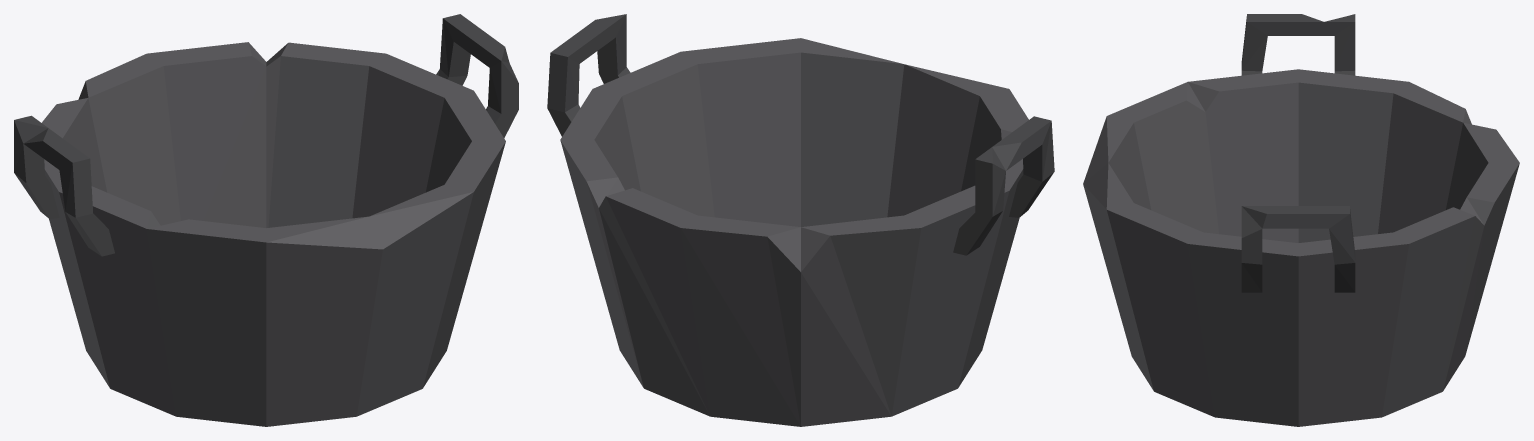
File: SM_Prop_Scrub_Bucket_02.glb
3 views of the same model, side by side, from view 1: azimuth 30°, elevation 25°; view 2: azimuth 150°, elevation 25°; view 3: azimuth 270°, elevation 25° (orthographic). The views are drawn at different scales.
Visible parts, largest first — view 1: SM_Prop_Scrub_Bucket_02_part00; view 2: SM_Prop_Scrub_Bucket_02_part00; view 3: SM_Prop_Scrub_Bucket_02_part00.
Boxes of the visible parts, x1,y1,x2,y2 form: SM_Prop_Scrub_Bucket_02_part00: (14, 14, 518, 426); SM_Prop_Scrub_Bucket_02_part00: (547, 14, 1054, 426); SM_Prop_Scrub_Bucket_02_part00: (1083, 14, 1519, 426).
Size of the model in its own units: 0.6549 by 0.3671 by 0.5993.
Materials: 1 (1 with a texture image).
